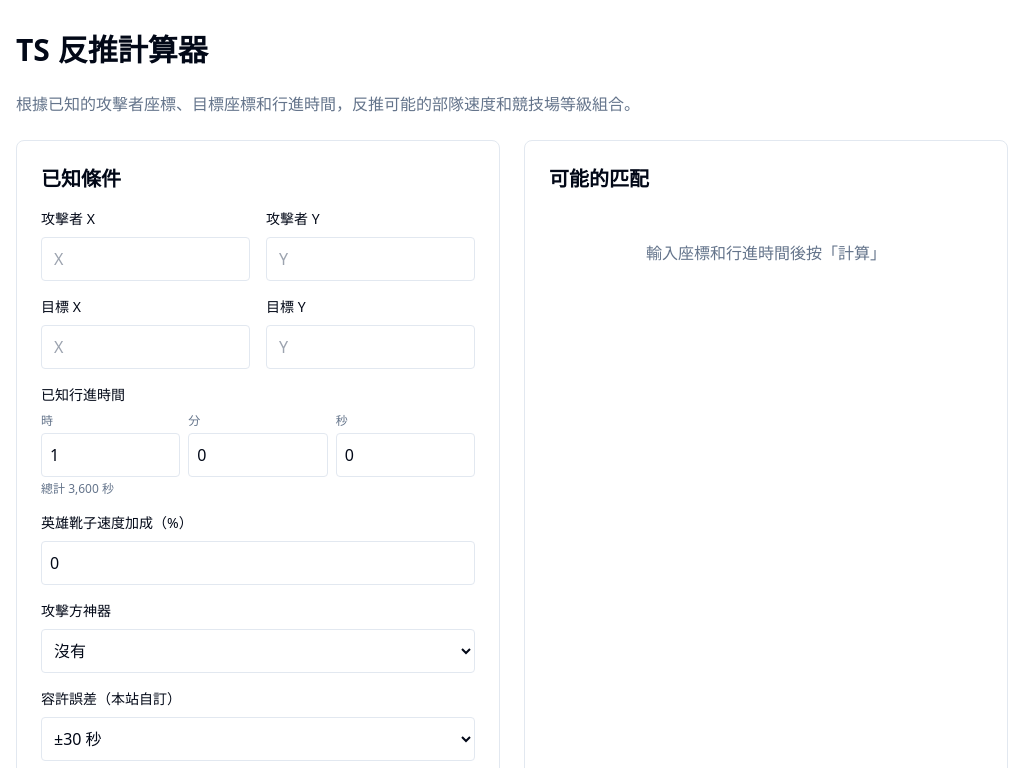
it: 新欄位不填：送出的值跟以前一樣（新欄位都是 0，後端預設也是 0；PM） › reverse TS
Type "0" into the field with test id "-y". click: (146, 259)
box: [41,237,250,281]
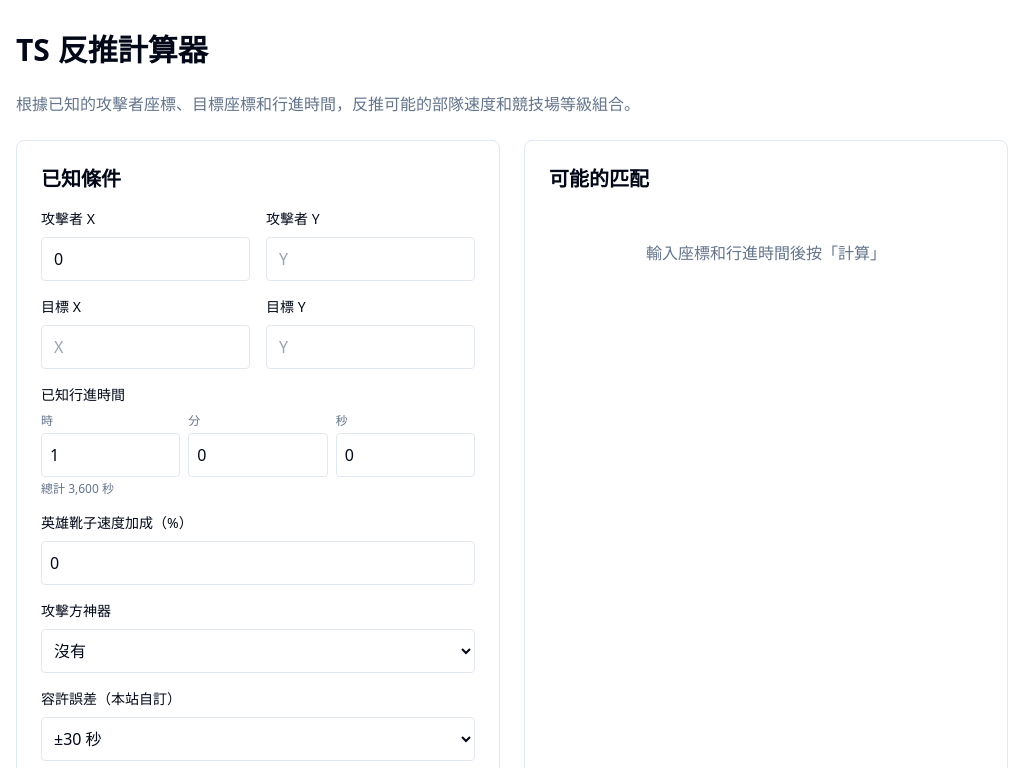
Type "0" into the field with test id "-y". click: (370, 259)
box: [266,237,475,281]
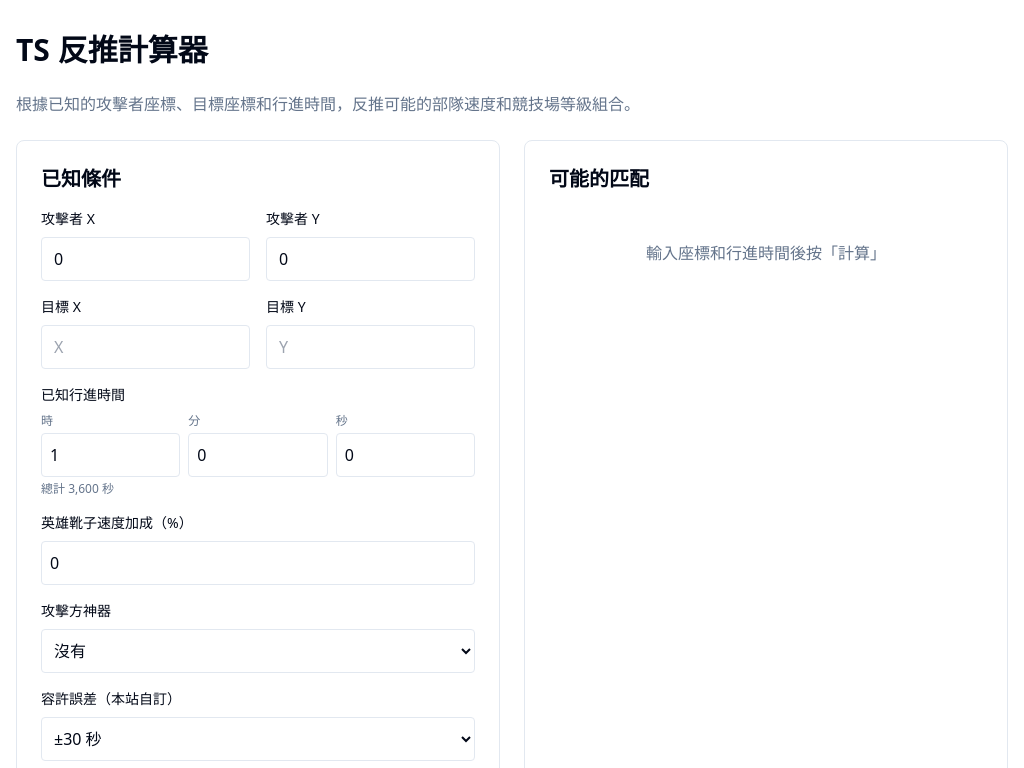
Type "0" into the field with test id "-y". click: (146, 347)
box: [41,325,250,369]
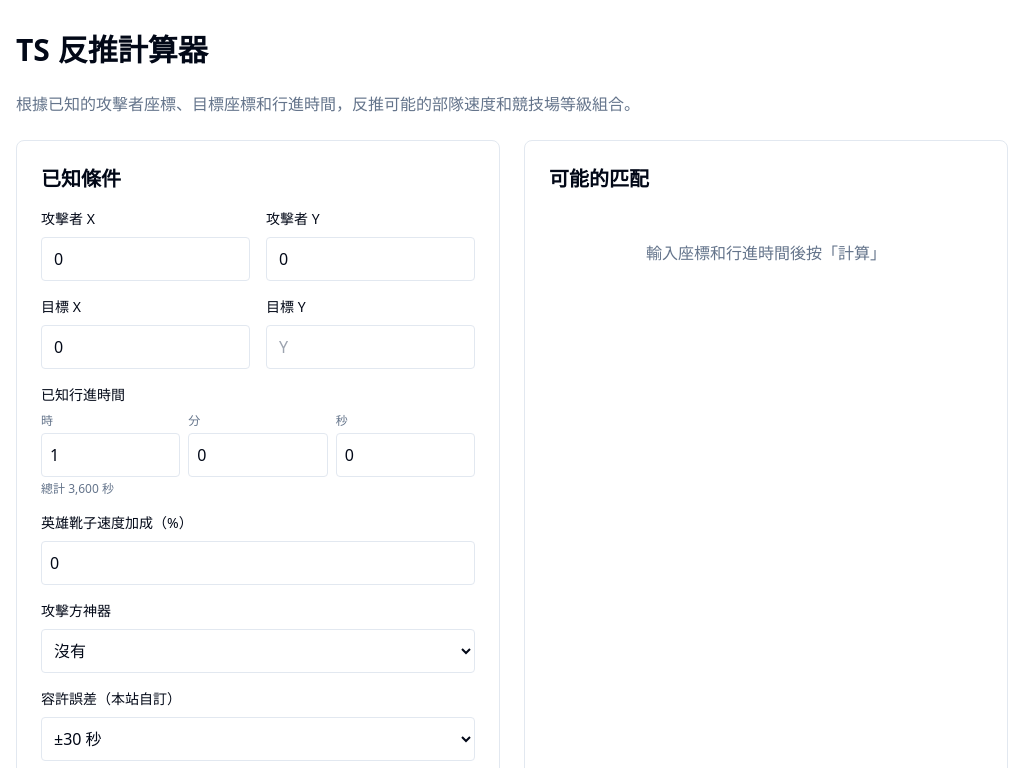
Type "0" into the field with test id "-y". click: (370, 347)
box: [266,325,475,369]
(page scrolled)
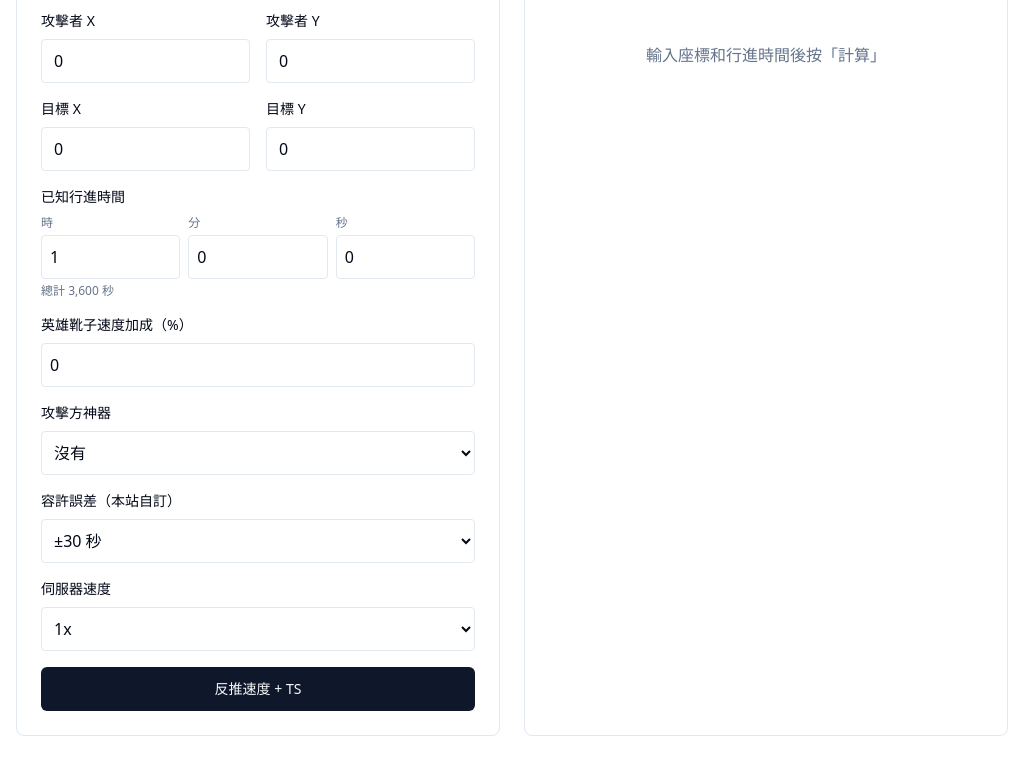
Click the button "反推速度 + TS". click: (258, 689)
box: [41,667,475,711]
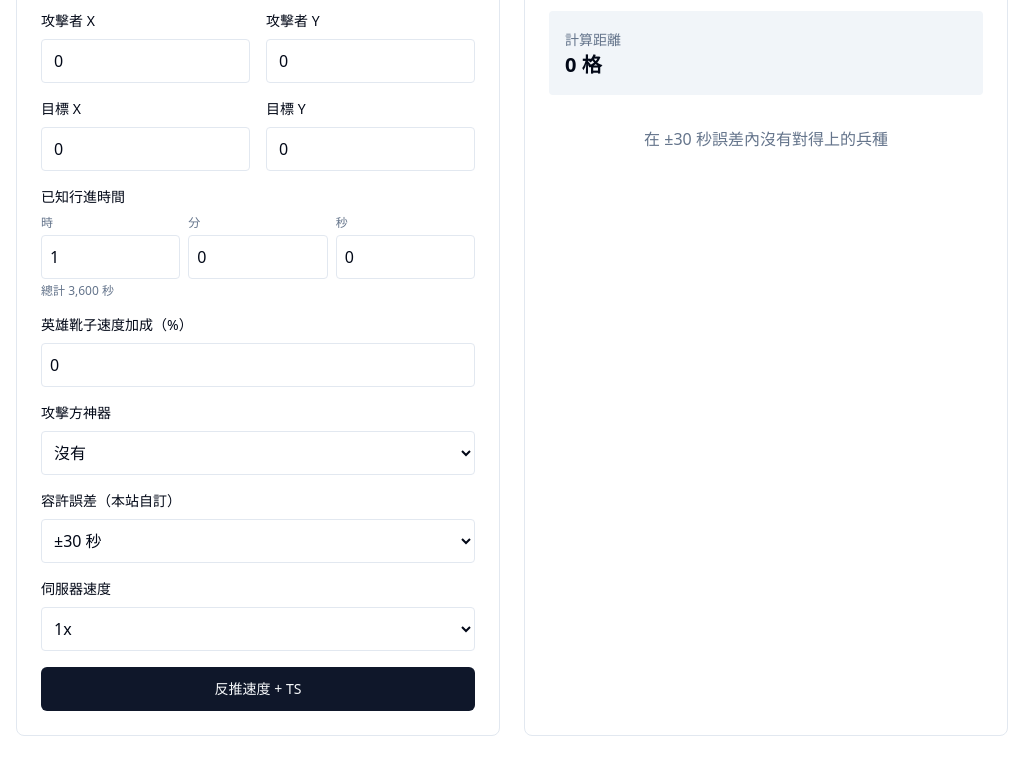
Now the text "在 ±30 秒誤差內沒有對得上的兵種" is shown, box [644,128,888,150]
